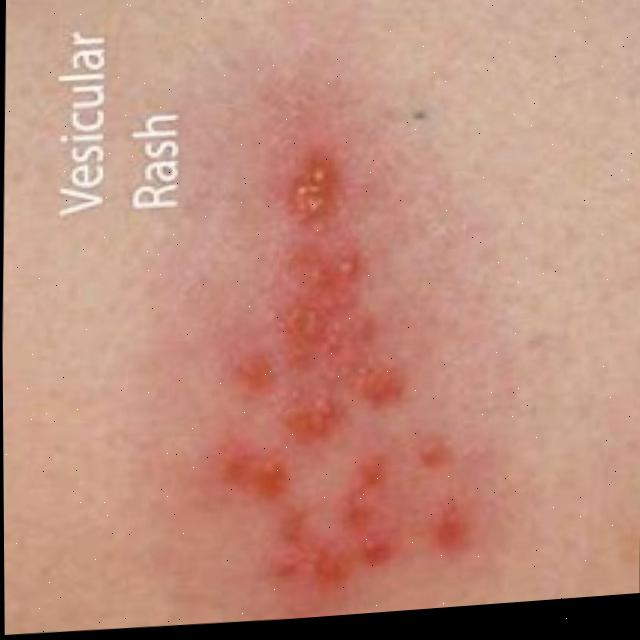Shingles: (213, 98, 479, 605)
